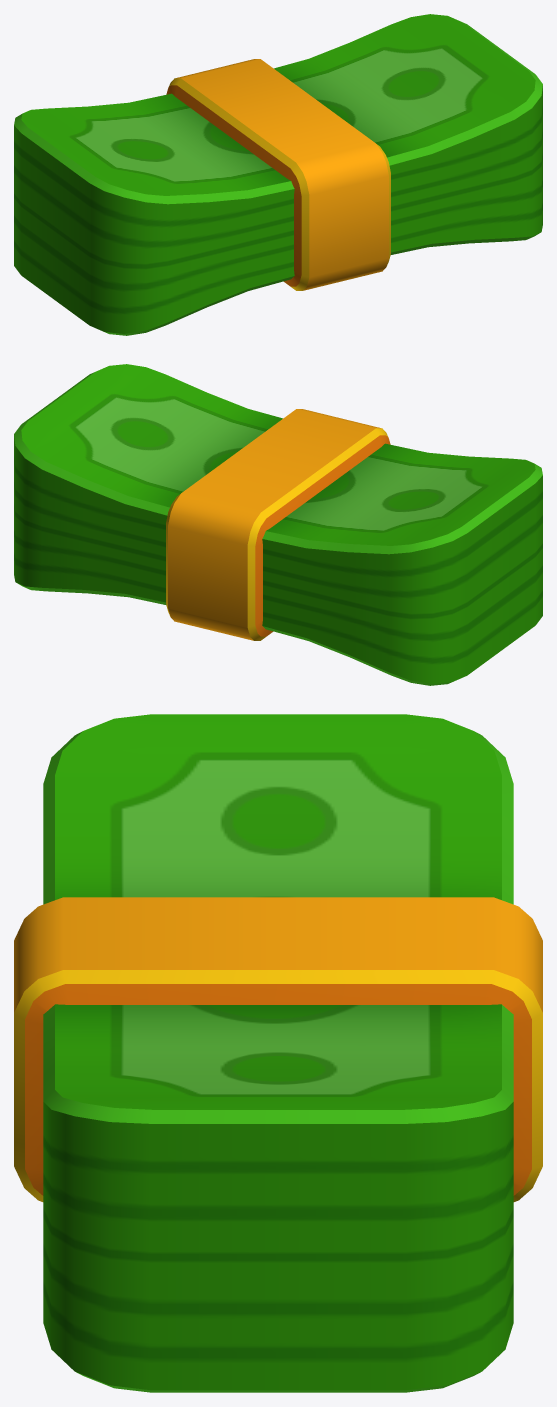
The model's file is SM_Money.fbx.
3 renders of one model, top to bottom at view 1: azimuth 30°, elevation 25°; view 2: azimuth 150°, elevation 25°; view 3: azimuth 270°, elevation 25°, orthographic. The views are drawn at different scales.
Parts seen in each view (by area): view 1: model_0.005; view 2: model_0.005; view 3: model_0.005.
Boxes of the visible parts, x1,y1,x2,y2 form: model_0.005: [14, 14, 542, 335]; model_0.005: [14, 364, 542, 685]; model_0.005: [14, 714, 542, 1392].
Bounding box in the file's own units: 93.44 × 30.28 × 51.31.
